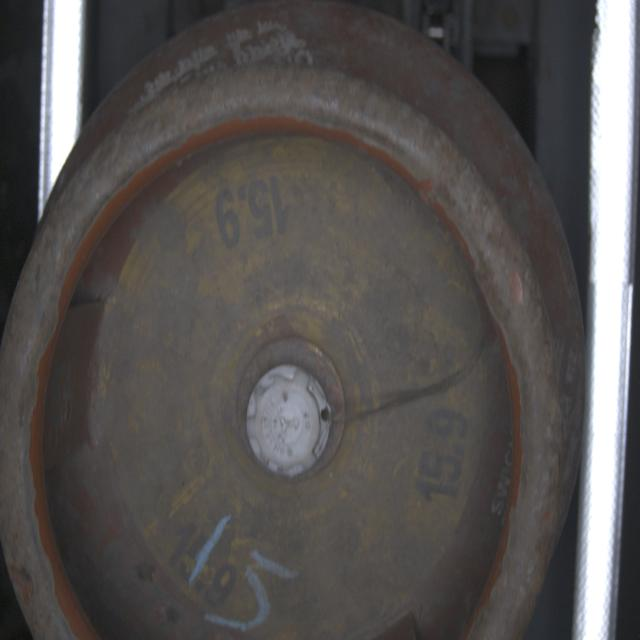Cap: (245, 362, 332, 483)
